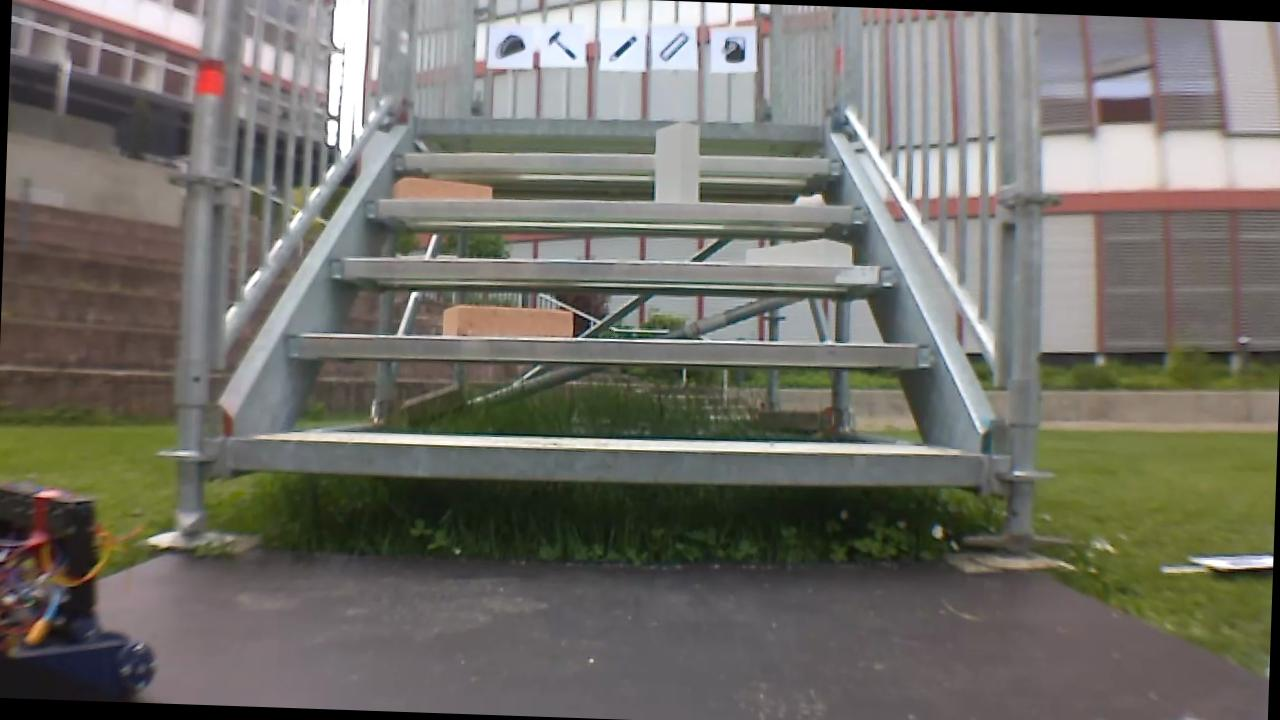brick: (443, 305, 571, 338), (652, 123, 700, 203), (390, 177, 490, 200)
bucket: (716, 30, 749, 64)
edge: (229, 426, 983, 496), (284, 322, 936, 375), (329, 247, 901, 297), (366, 188, 871, 231), (390, 142, 846, 181), (416, 109, 826, 144)
hammer: (541, 27, 581, 60)
pencil: (603, 30, 643, 67)
ruler: (654, 28, 689, 64)
steps: (223, 94, 1000, 508)
taco: (490, 28, 527, 63)
